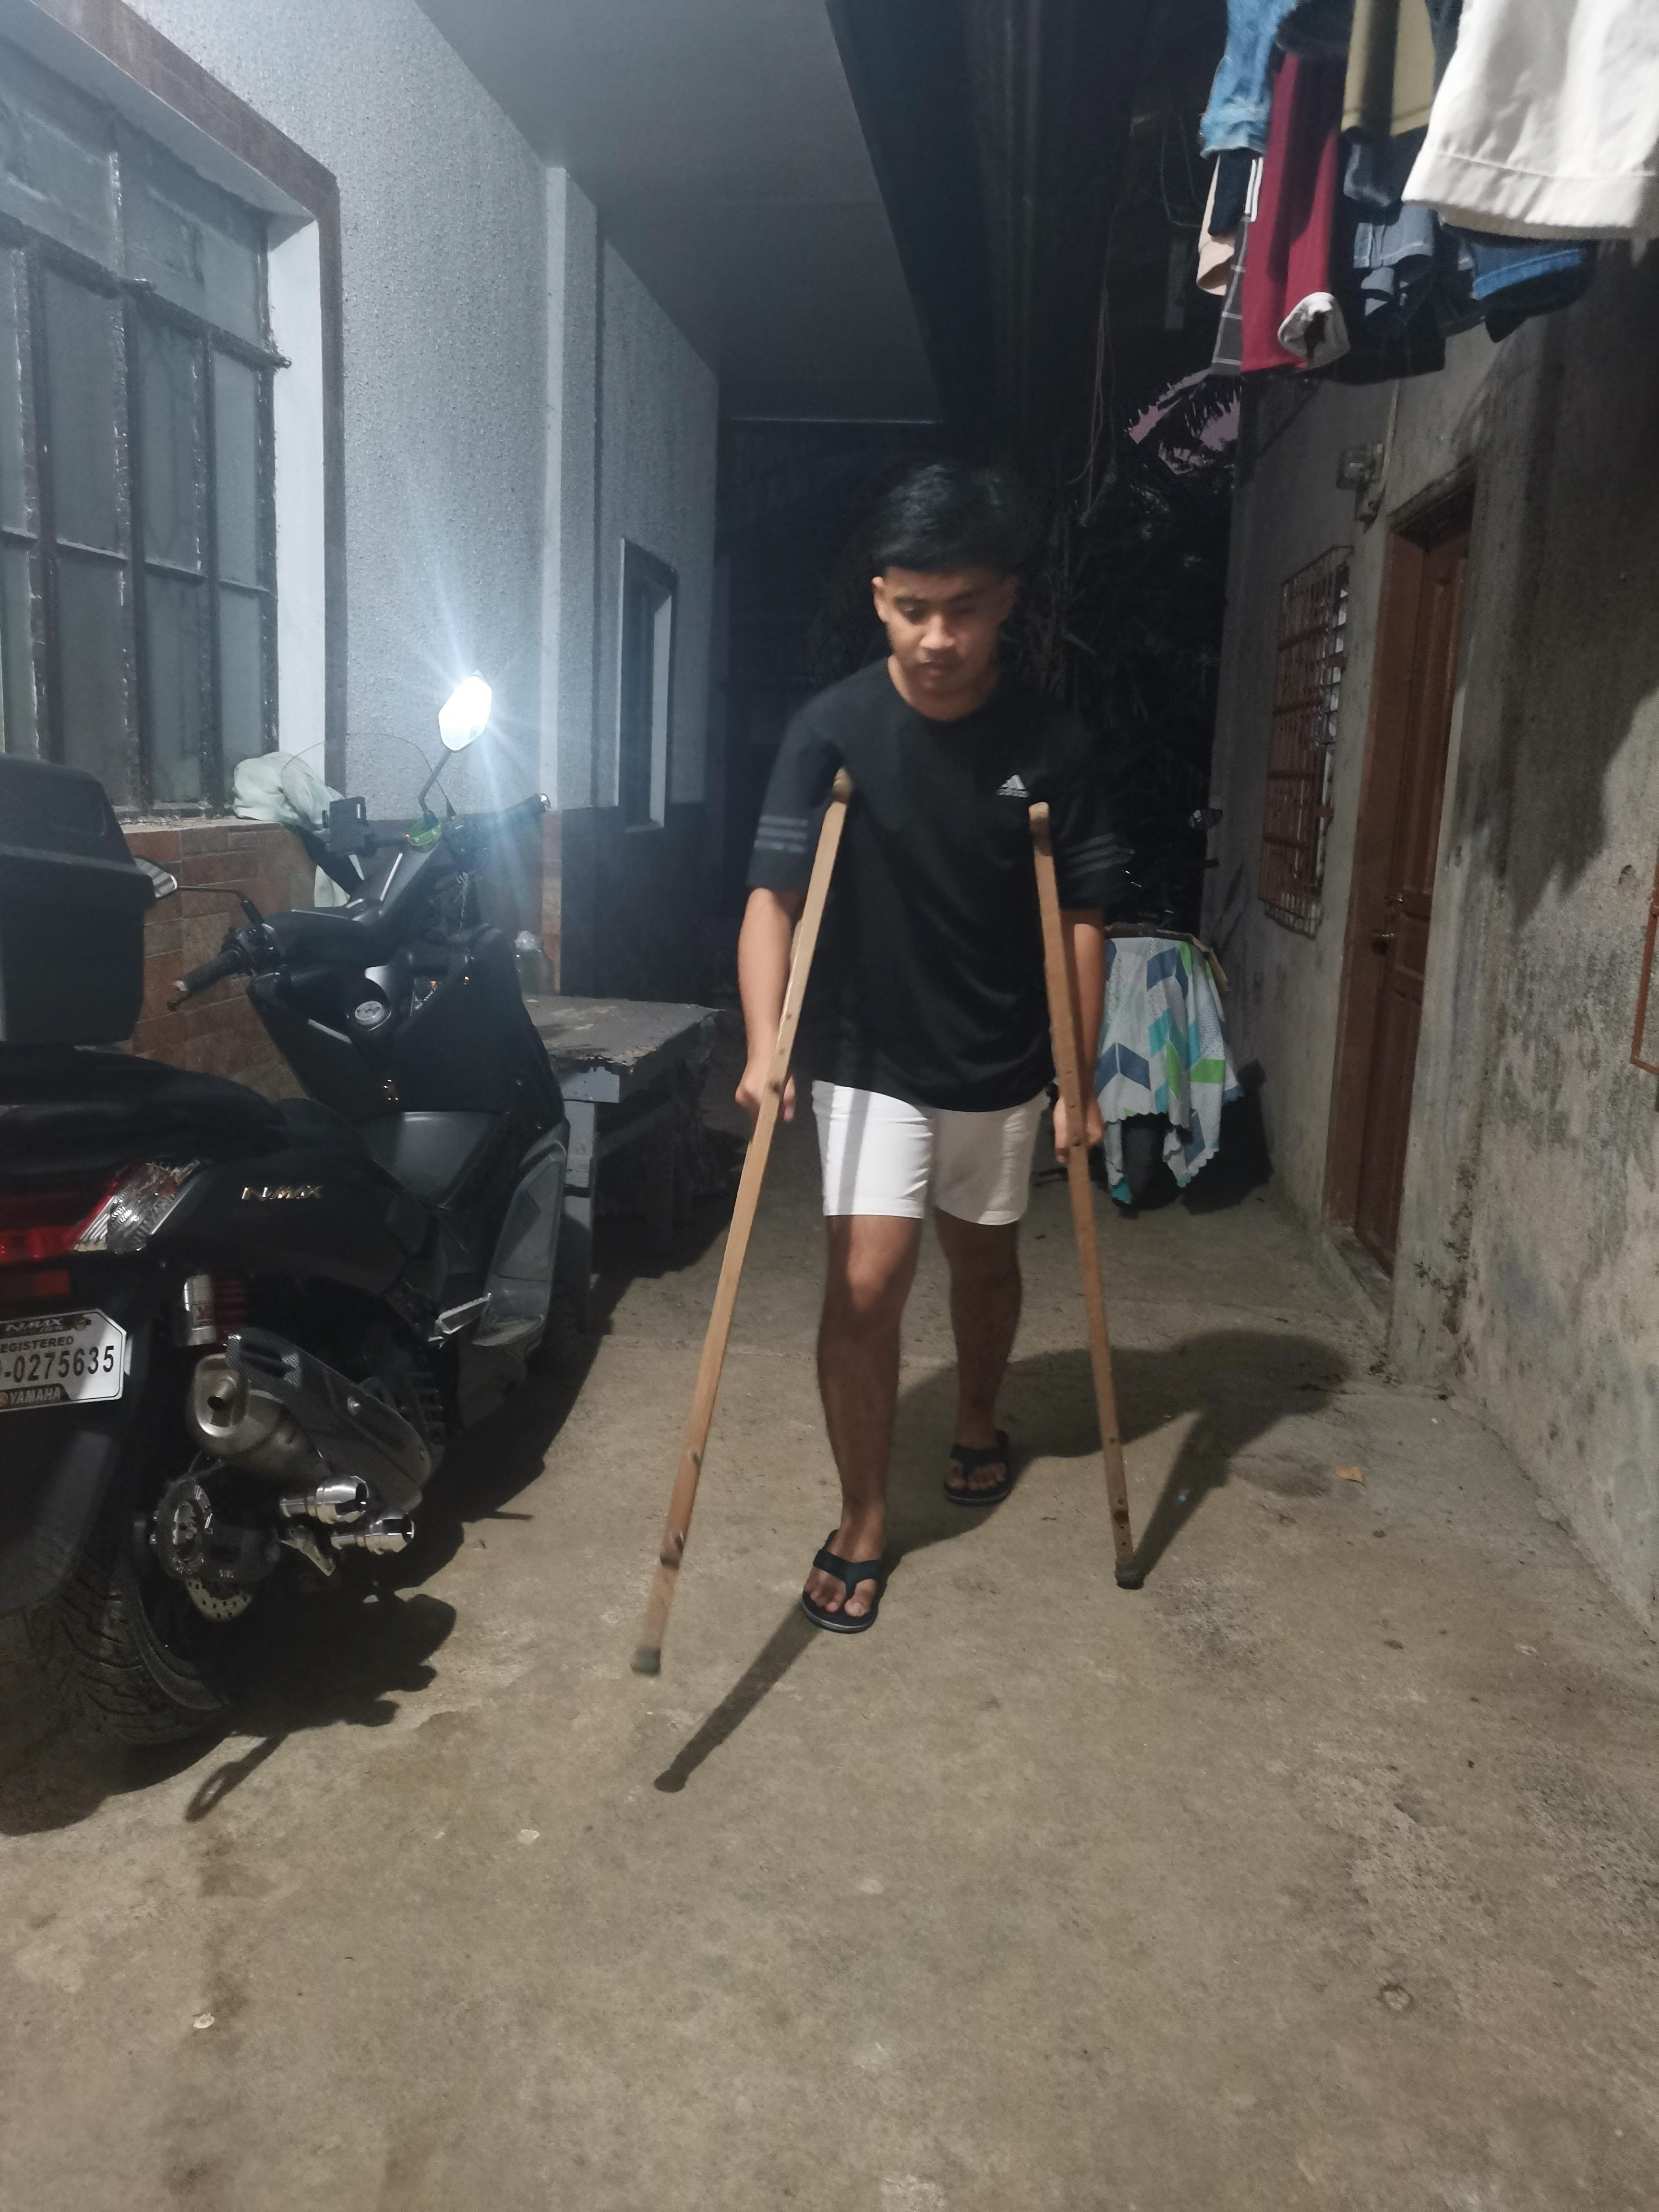crutches: (606, 437, 1159, 1689)
